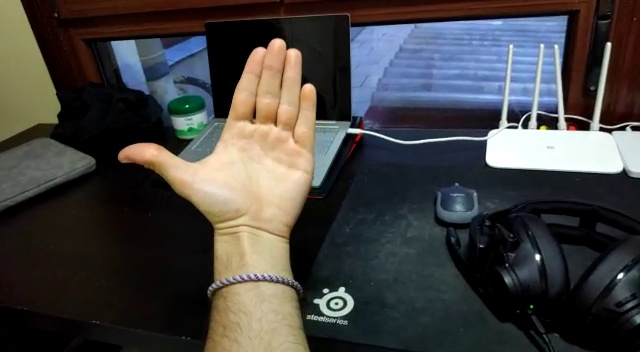Palm: (113, 35, 322, 250)
